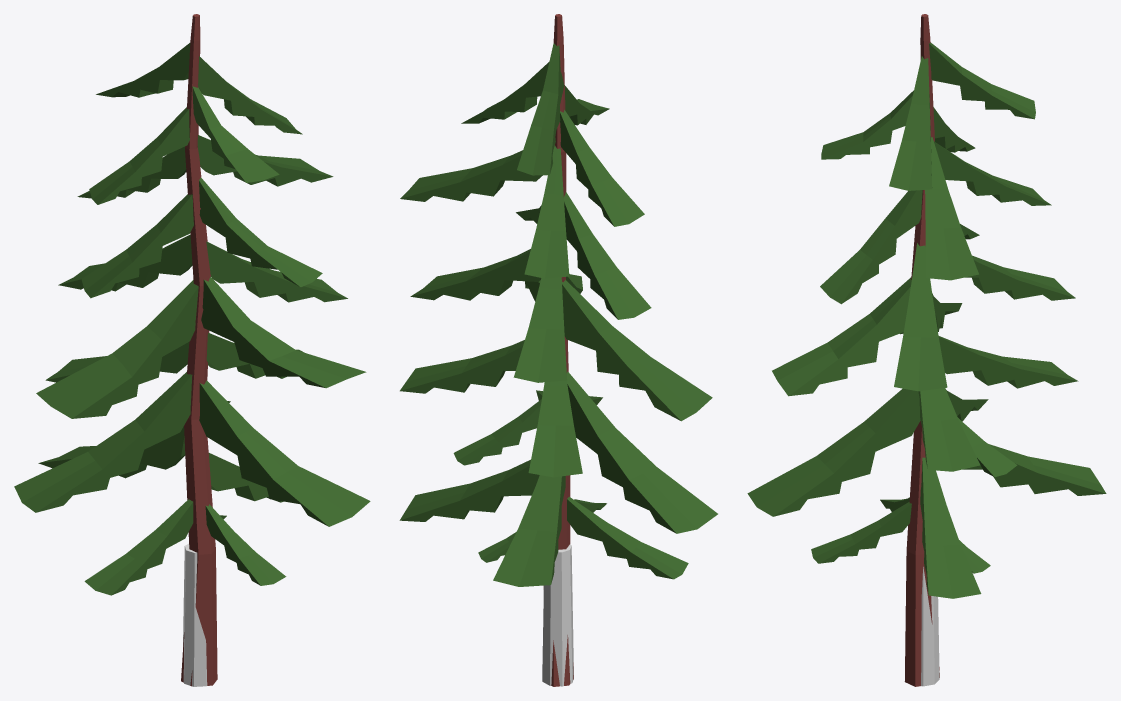
The model's file is floresta_tree_pine_small.glb.
3 views of the same model, side by side, from view 1: azimuth 30°, elevation 25°; view 2: azimuth 150°, elevation 25°; view 3: azimuth 270°, elevation 25° (orthographic).
Visible parts, largest first — view 1: Pine small f, Colisao; view 2: Pine small f, Colisao; view 3: Pine small f, Colisao.
Boxes of the visible parts, box(x1,y1,x2,y2) form: Pine small f: box(14, 14, 370, 686); Colisao: box(183, 543, 207, 686); Pine small f: box(399, 14, 717, 686); Colisao: box(542, 544, 573, 686); Pine small f: box(747, 14, 1106, 686); Colisao: box(921, 566, 939, 686).
Size of the model in its own units: 7.92 by 16.68 by 8.18.
